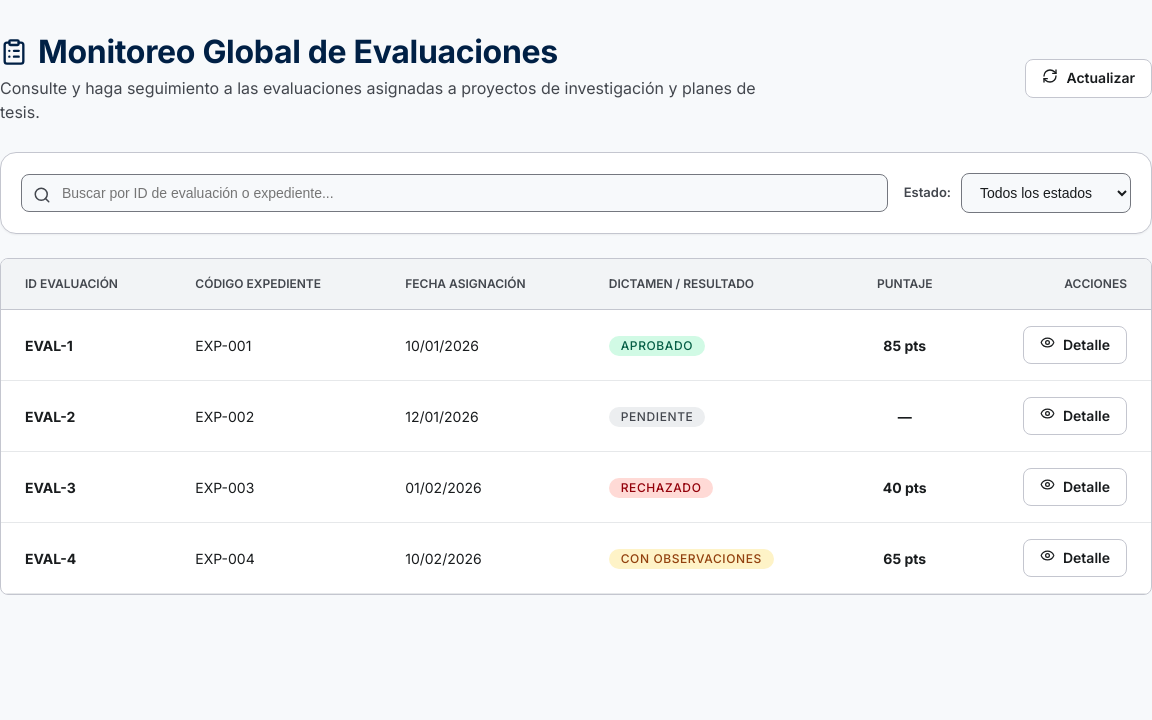
Test: DirectorEvaluations › opens detail modal when Ver/Detalle button is clicked
This screenshot has width=1152, height=720.
Click the button "Detalle" in the row of "EXP-001" at (1075, 345), box [1023, 326, 1127, 364]
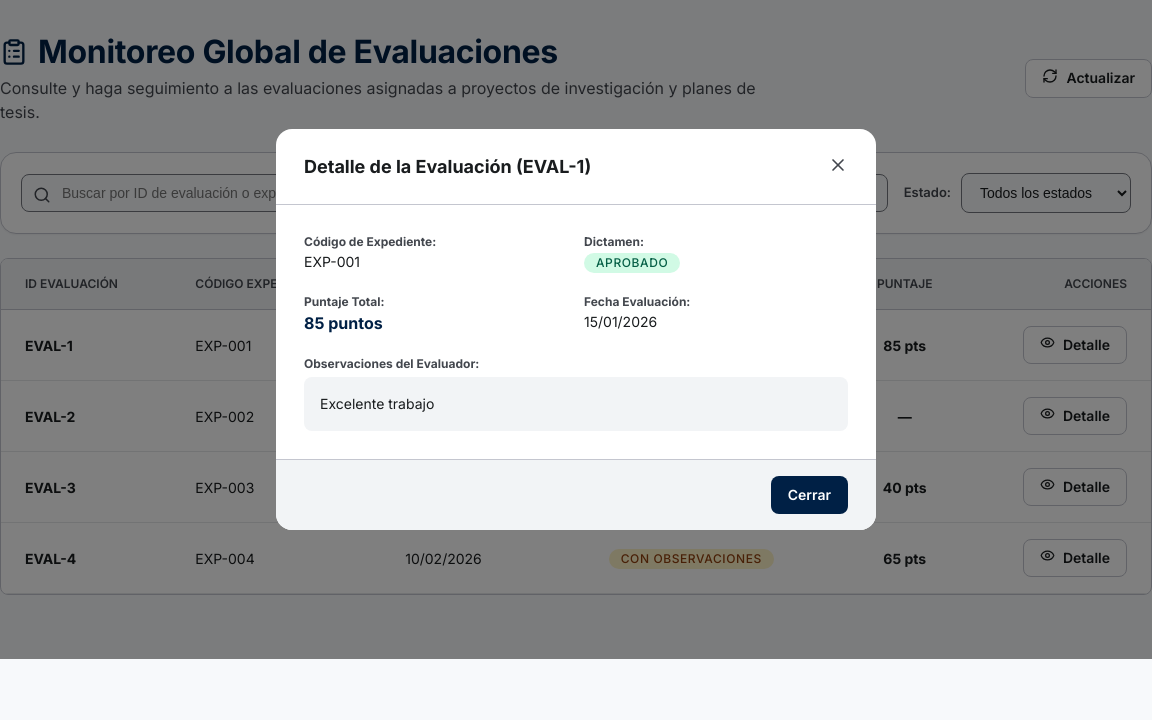
Expected: the text "Excelente trabajo" is shown, [304, 377, 848, 431]
